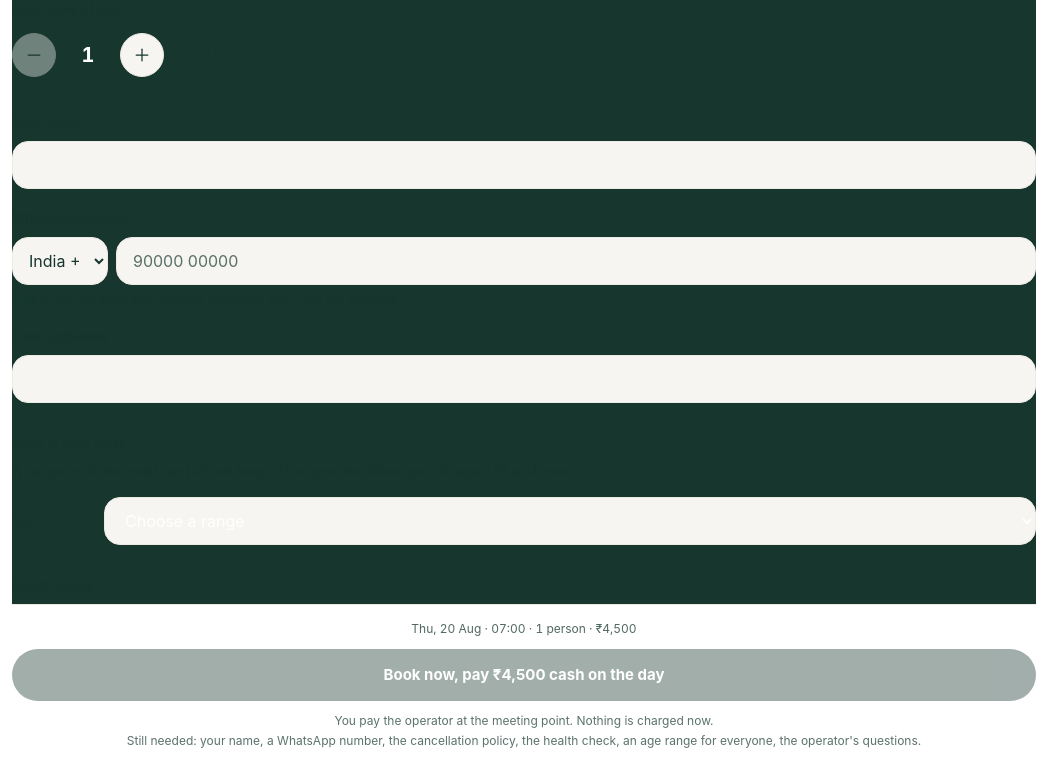
Test: CheckoutForm — the money rules › treats a declared condition as a conversation, and books nothing
Type "Asha Menon" into the field labelled "Your name" at (524, 165), box [12,141,1036,189]
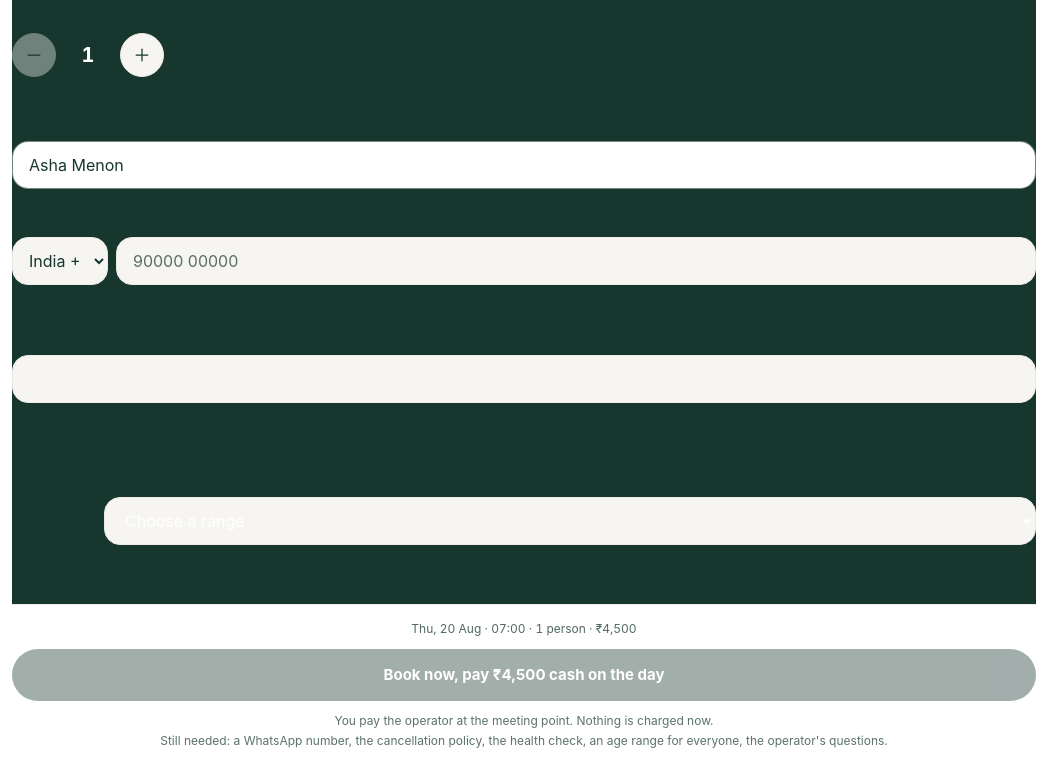
Type "+919000000000" into the field labelled "WhatsApp number" at (576, 261), box [116,237,1036,285]
(page scrolled)
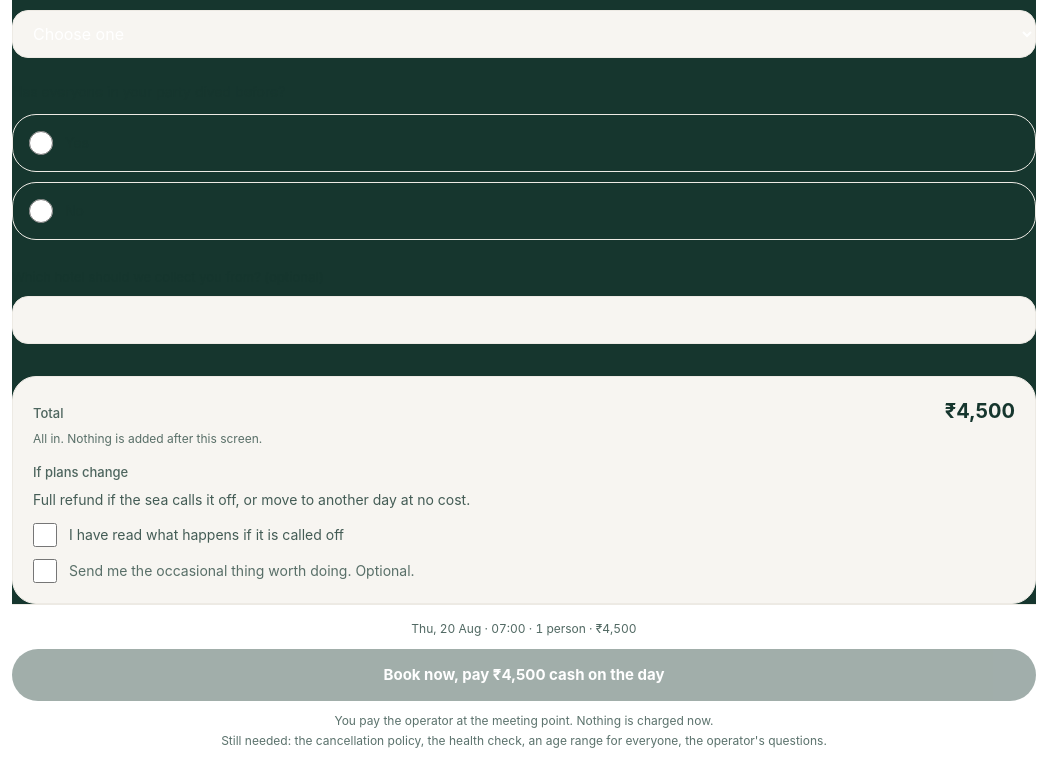
Click the checkbox labelled "I have read what happens if it is called off" at (45, 535), box [33,523,57,547]
(page scrolled)
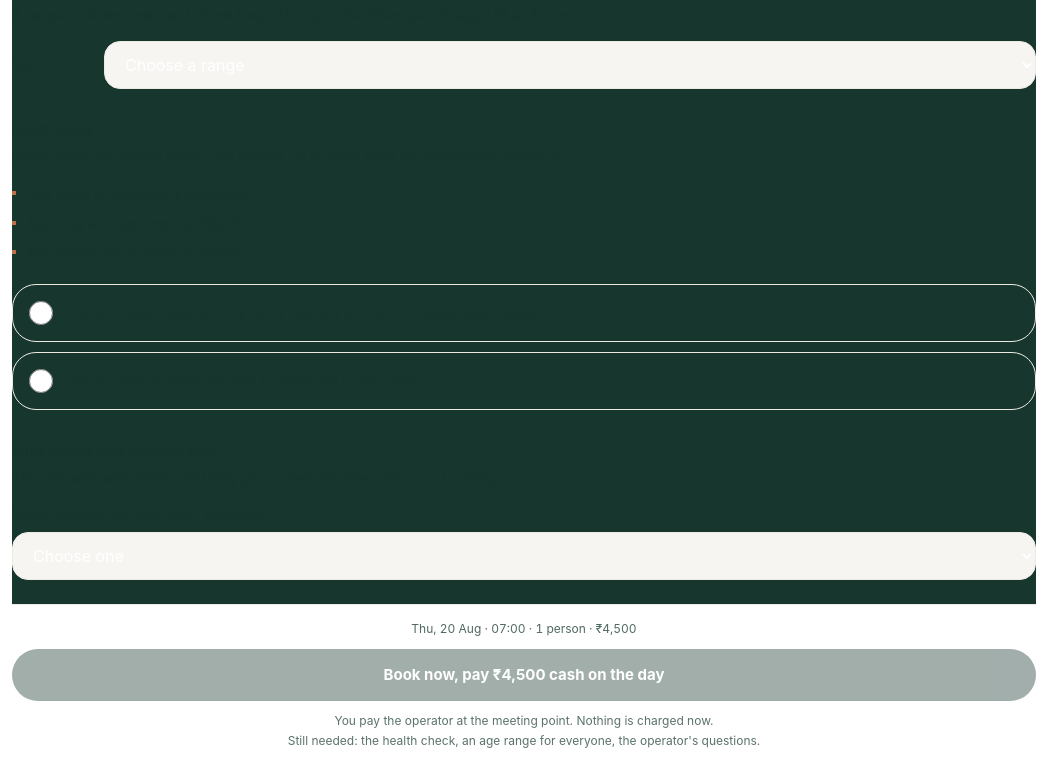
Click the radio button labelled "One or more of these applies to someone in my party." at (41, 381), box [29,369,53,393]
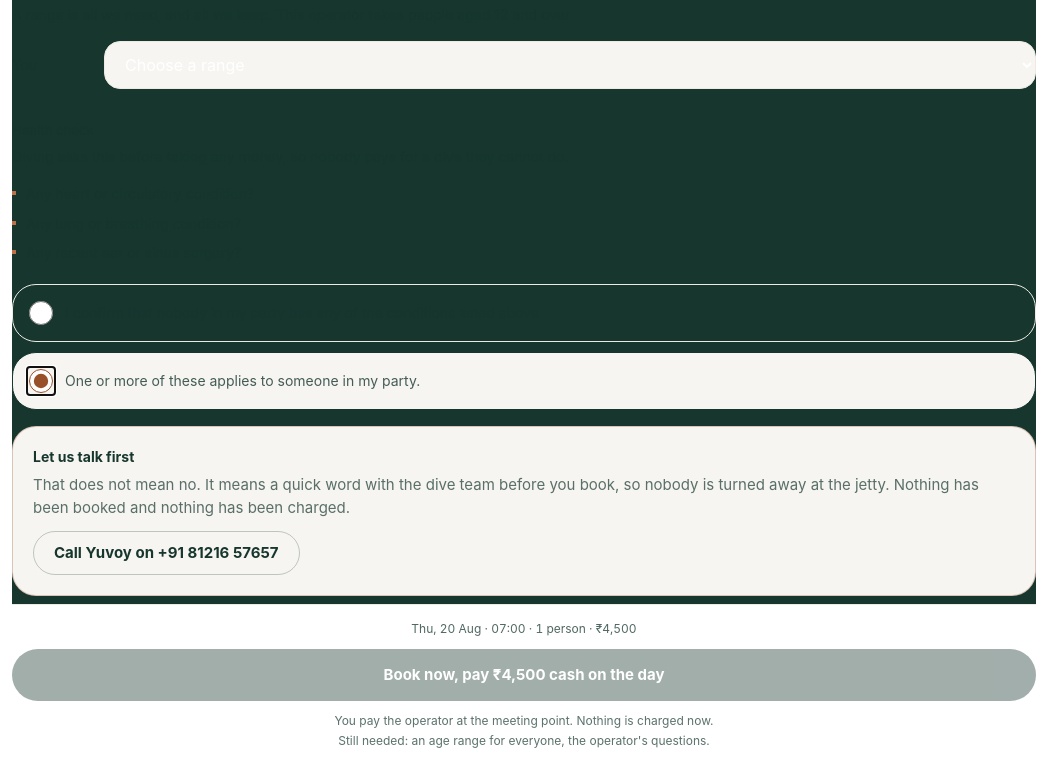
Check: the button "Book now, pay ₹4,500 cash on the day" is disabled, box [12,649,1036,701]
Check: the text "Let us talk first" is shown, box [33,448,134,465]
